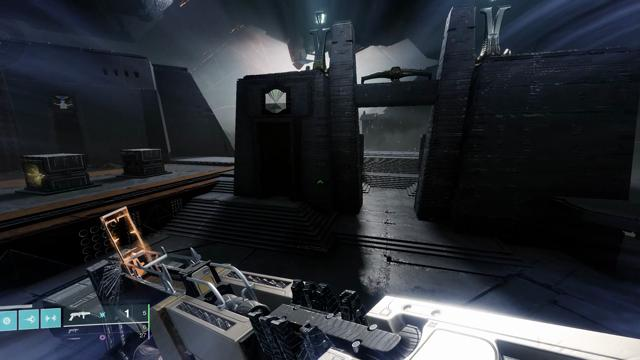commune: (265, 89, 286, 113)
drink: (52, 94, 74, 110)
